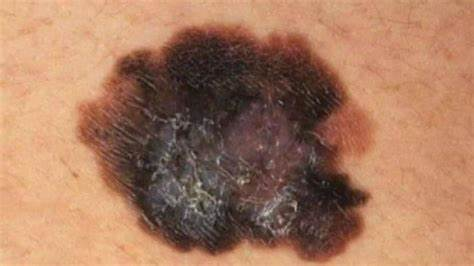melanoma: (83, 34, 390, 263)
